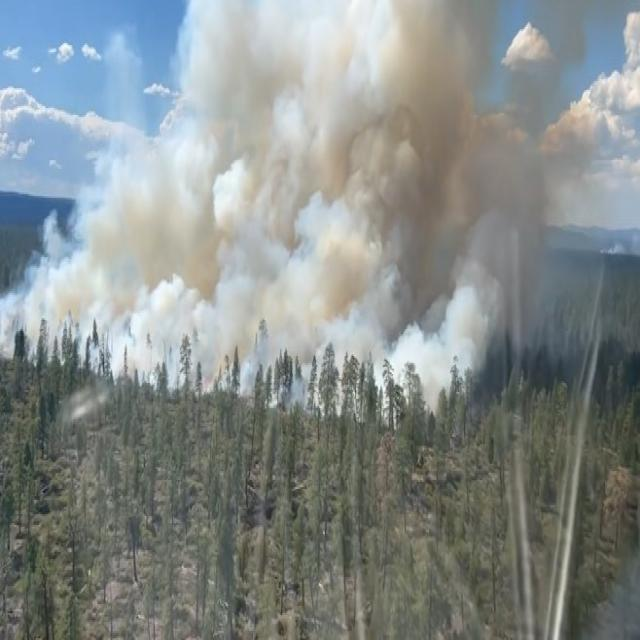Smoke: (0, 3, 547, 384)
